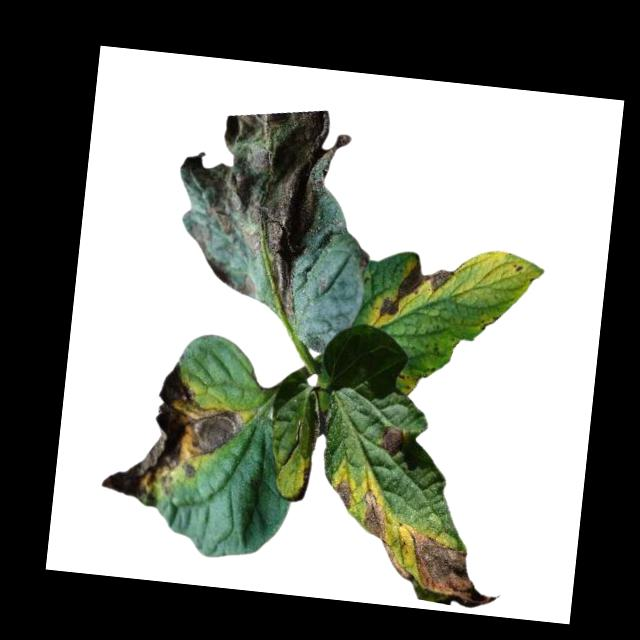Early_blight: (163, 95, 354, 327), (96, 356, 248, 514), (350, 488, 510, 607), (378, 252, 456, 325), (378, 426, 405, 457), (333, 482, 354, 510), (357, 250, 371, 274)
